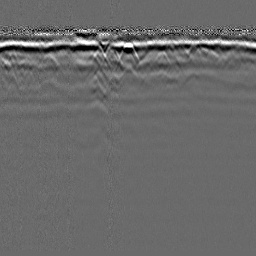cavity: (118, 40, 139, 62)
